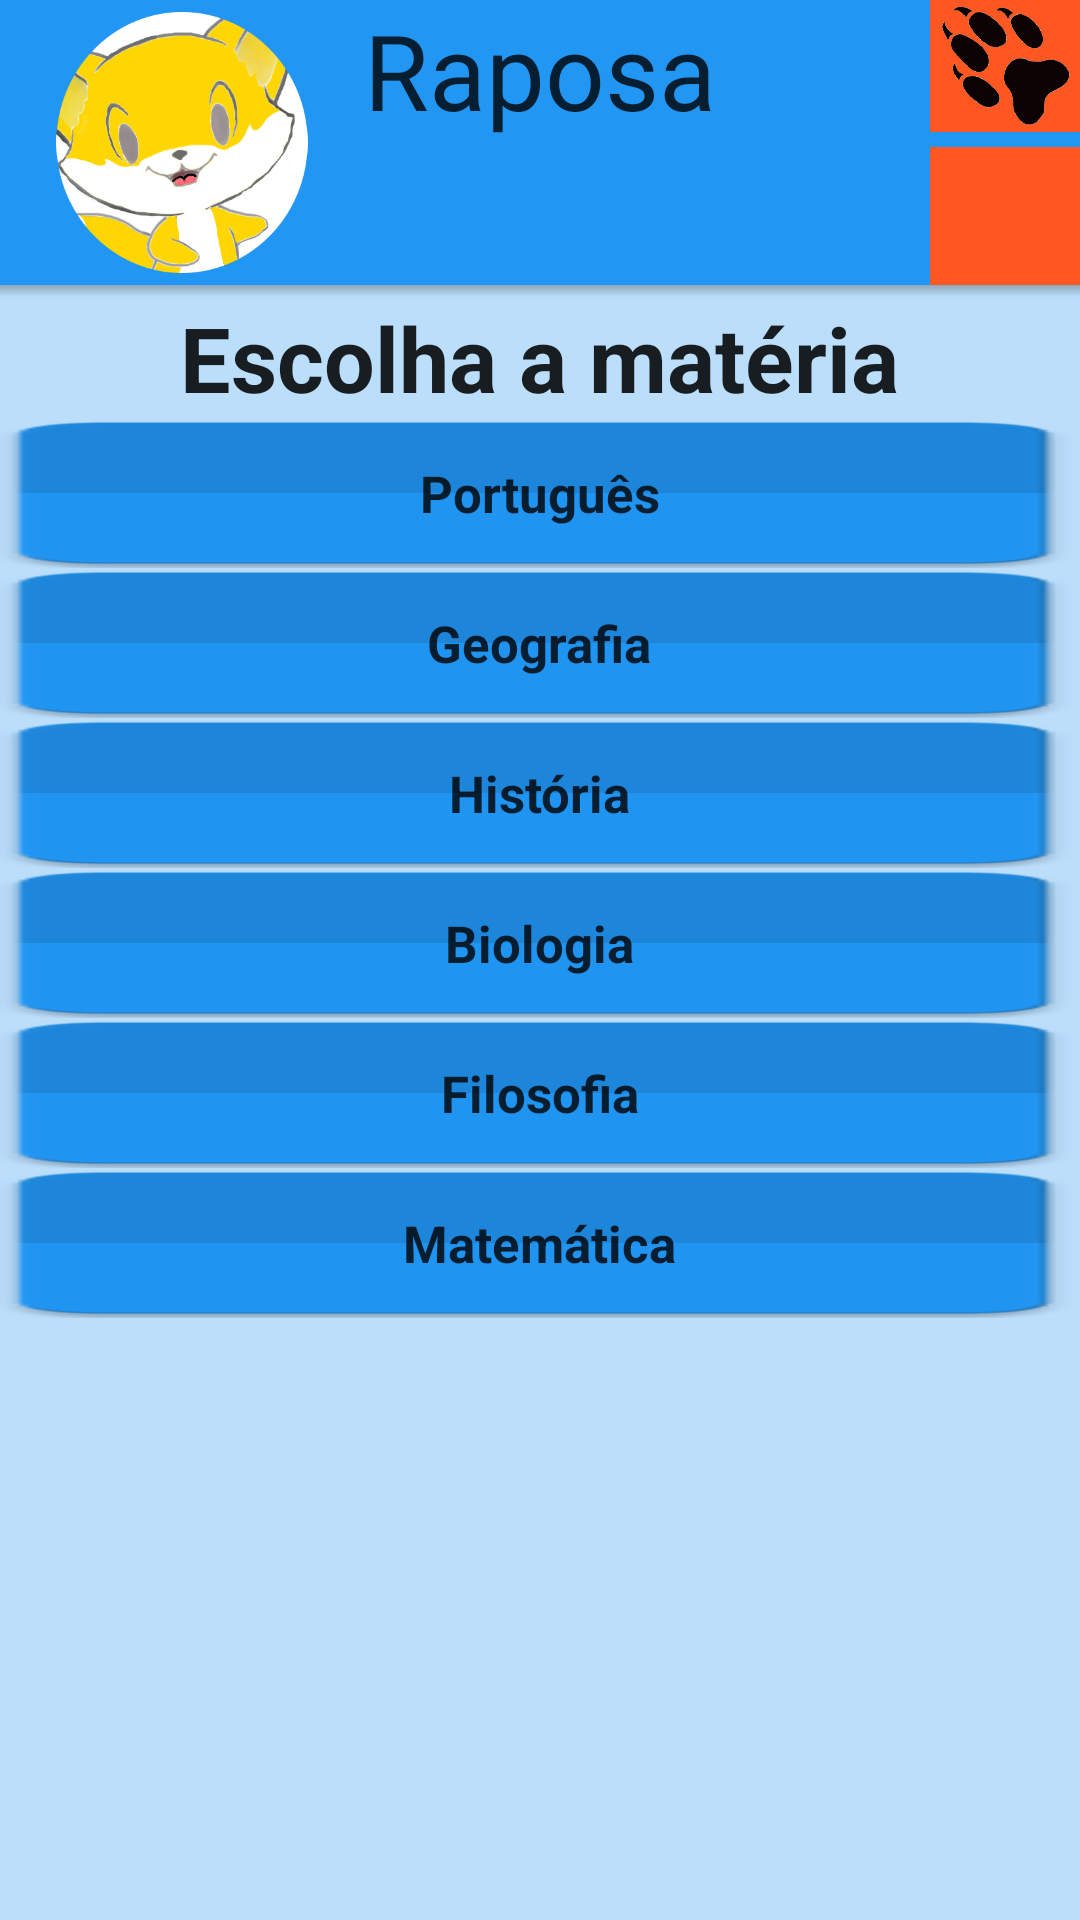

Where icons sit on this 1080×1920 app screen, as (x1,y1,x2,y2):
foxpaw: (930,0,1080,132)
